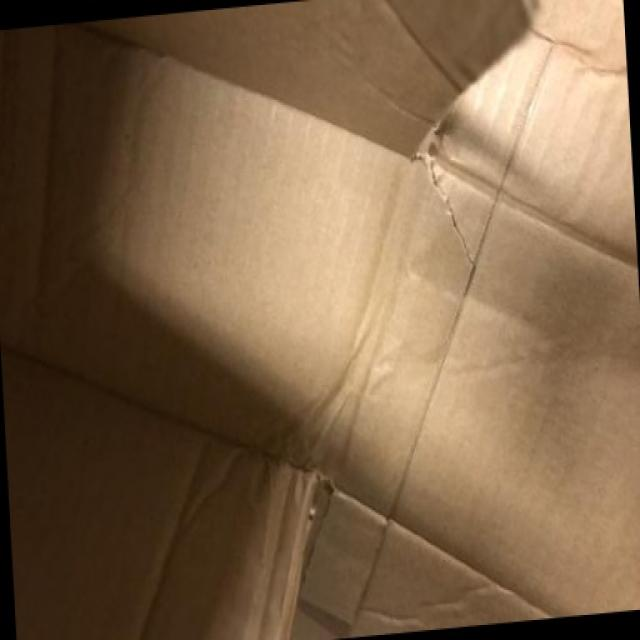carton: (96, 35, 622, 640)
